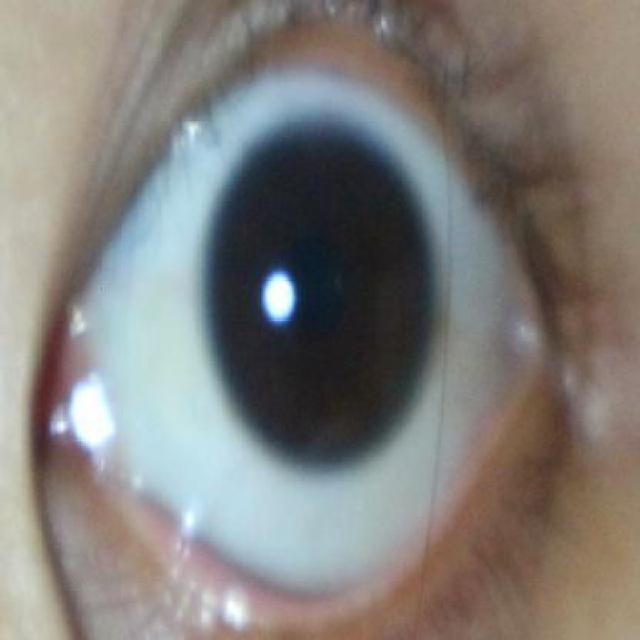Normal: (206, 114, 431, 464)
